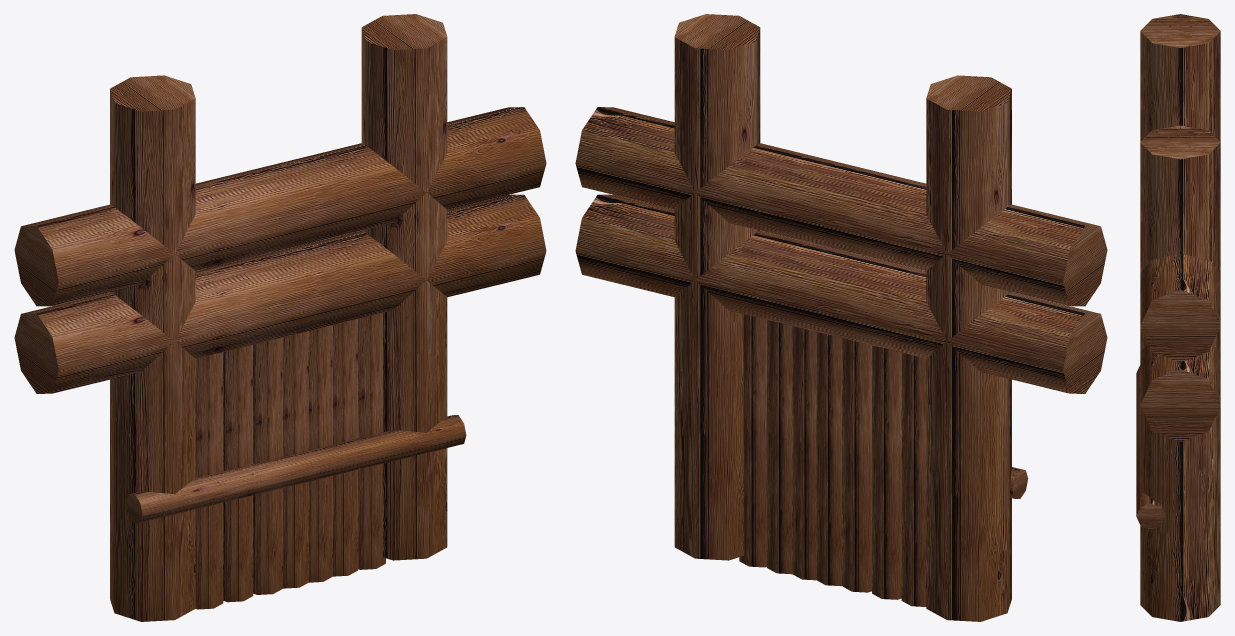
The model's file is WoodBigDoor.FBX.
The picture shows the model from 3 angles, left to right: view 1: azimuth 30°, elevation 25°; view 2: azimuth 150°, elevation 25°; view 3: azimuth 270°, elevation 25°; orthographic projection. The views are drawn at different scales.
Parts seen in each view (by area): view 1: Level1_1_WoodDoor; view 2: Level1_1_WoodDoor; view 3: Level1_1_WoodDoor.
Part boxes in pixels (left/top/right/bottom): Level1_1_WoodDoor: left=14, top=14, right=546, bottom=621; Level1_1_WoodDoor: left=575, top=14, right=1107, bottom=621; Level1_1_WoodDoor: left=1136, top=14, right=1220, bottom=621.
Size of the model in its own units: 211 by 214 by 34.91.
